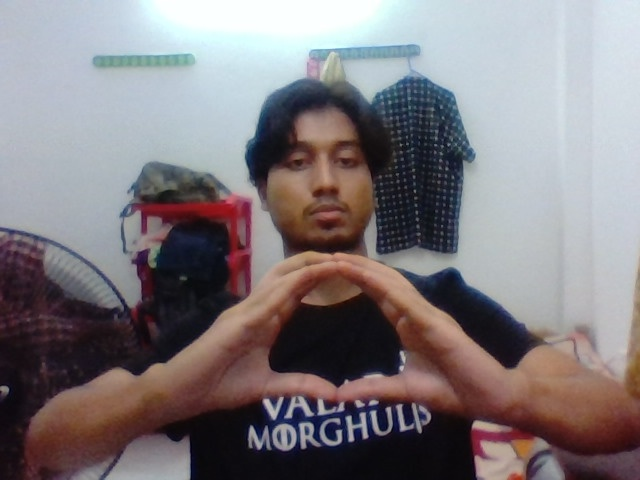O: (214, 230, 458, 445)
